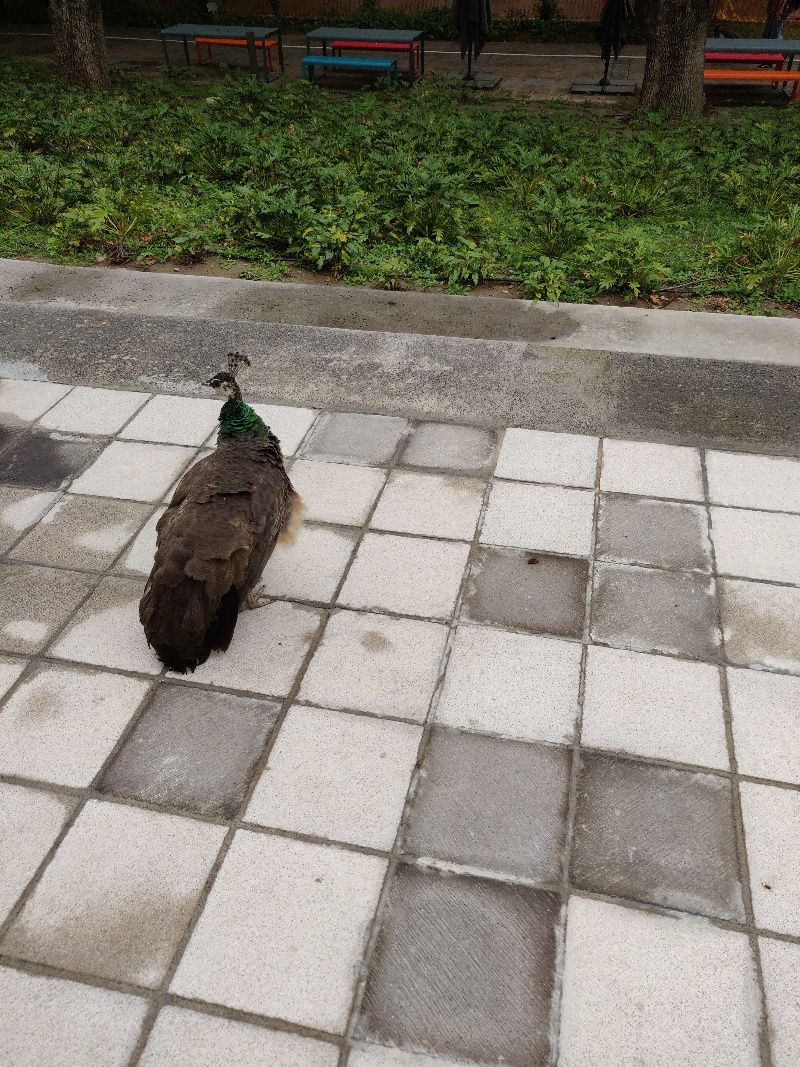pavoreal: (181, 359, 302, 666)
